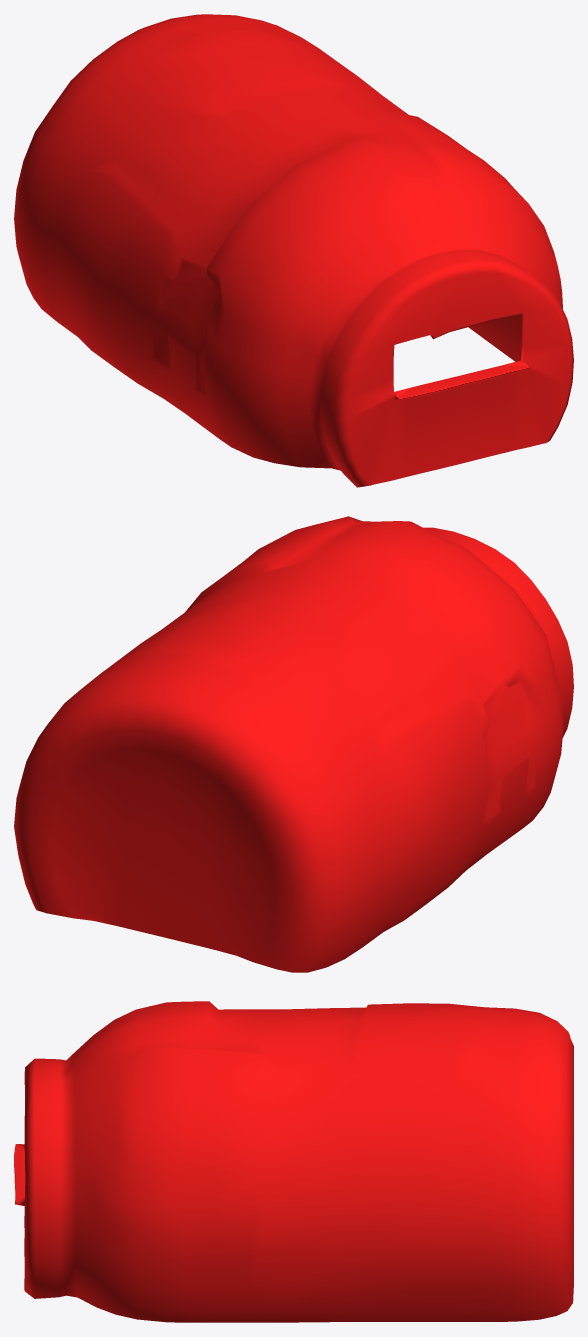
File: picklesPot_CAGE.FBX
3 renders of one model, top to bottom at view 1: azimuth 30°, elevation 25°; view 2: azimuth 150°, elevation 25°; view 3: azimuth 270°, elevation 25°, orthographic. The views are drawn at different scales.
Visible parts, largest first — view 1: Object001.Cage001; view 2: Object001.Cage001; view 3: Object001.Cage001.
Boxes of the visible parts, x1=… form: Object001.Cage001: x1=14, y1=14, x2=573, y2=487; Object001.Cage001: x1=14, y1=516, x2=573, y2=972; Object001.Cage001: x1=14, y1=1001, x2=573, y2=1322.
Bounding box in the file's own units: 1039 × 745 × 1588.
